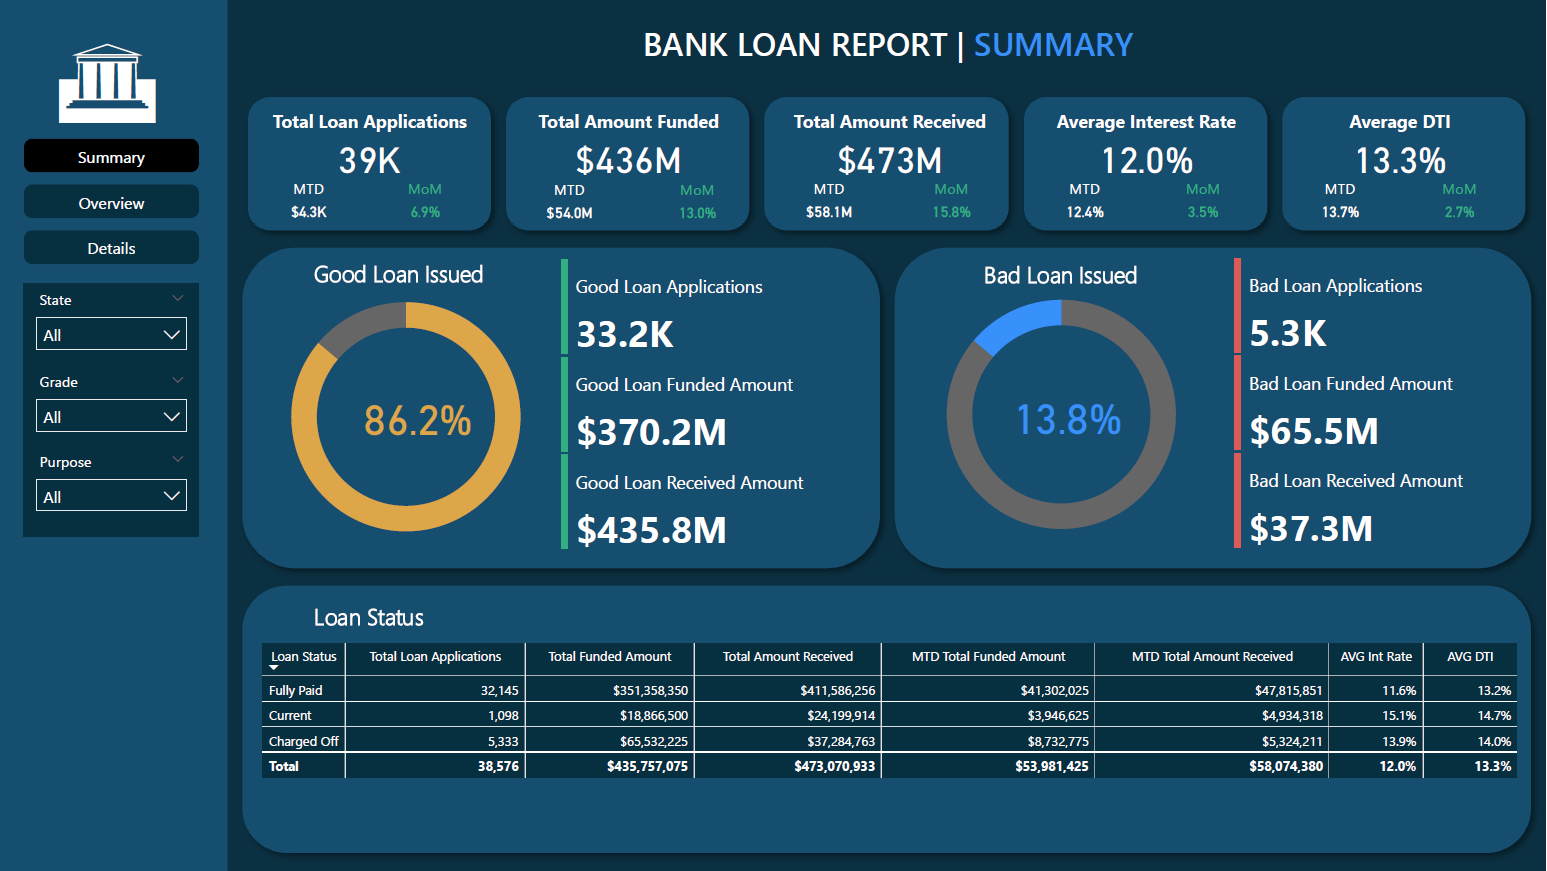

The dashboard page shown, as its layout file describes it:
{"tool":"powerbi","page":{"name":"Summary","canvas":[1280,720],"ordinal":0},"visuals":[{"type":"textbox","box":[190.4,11.5,1089.3,50.5],"z":0},{"type":"card","title":"Total Loan Applications","fields":{"Values":["bankloan data.Total Loan Applications"]},"box":[200.5,89.5,209.2,62],"z":1000},{"type":"card","title":"MTD","fields":{"Values":["bankloan data.MTD Total Loan Applications"]},"box":[200.5,142.8,108.2,51.9],"z":2000},{"type":"card","title":"MoM","fields":{"Values":["bankloan data.MoM Total Loan Applications"]},"box":[292.9,142.8,116.9,51.9],"z":3000},{"type":"card","title":"Total Amount Funded","fields":{"Values":["bankloan data.Total Funded Amount"]},"box":[421.3,89.5,197.7,62],"z":4000},{"type":"card","title":"MTD","fields":{"Values":["bankloan data.MTD Total Funded Amount"]},"box":[421.3,144.3,99.6,50.5],"z":5000},{"type":"card","title":"MoM","fields":{"Values":["bankloan data.MoM Total Funded Amount"]},"box":[535.3,144.3,83.7,50.5],"z":6000},{"type":"card","title":"Total Amount Received","fields":{"Values":["bankloan data.Total Amount Received"]},"box":[640.6,89.5,191.9,62],"z":7000},{"type":"card","title":"MTD","fields":{"Values":["bankloan data.MTD Total Amount Received"]},"box":[640.6,142.8,90.9,51.9],"z":8000},{"type":"card","title":"MoM","fields":{"Values":["bankloan data.MoM Total Received"]},"box":[743,142.8,89.5,51.9],"z":9000},{"type":"card","title":"Average Interest Rate","fields":{"Values":["bankloan data.AVG Int Rate"]},"box":[851.2,89.5,196.2,62],"z":10000},{"type":"card","title":"MTD","fields":{"Values":["bankloan data.MTD avg int rate"]},"box":[851.2,142.8,93.8,51.9],"z":11000},{"type":"card","title":"MoM","fields":{"Values":["bankloan data.MoM avg int rate"]},"box":[945,142.8,102.4,51.9],"z":12000},{"type":"card","title":"Average DTI","fields":{"Values":["bankloan data.avg dti"]},"box":[1060.4,89.5,197.7,62],"z":13000},{"type":"card","title":"MTD","fields":{"Values":["bankloan data.MTD avg dti"]},"box":[1060.4,142.8,98.1,51.9],"z":14000},{"type":"card","title":"MoM","fields":{"Values":["bankloan data.MoM avg dti"]},"box":[1158.5,142.8,99.6,51.9],"z":15000},{"type":"donutChart","fields":{"Category":["bankloan data.Good vs Bad Loan"],"Y":["bankloan data.Total Loan Applications"]},"box":[200,221.2,271.2,246.2],"z":16000},{"type":"card","fields":{"Values":["bankloan data.Good Loan %"]},"box":[281.3,323.2,128.4,43.3],"z":17000},{"type":"cardVisual","fields":{"Data":["bankloan data.Good Loan Applications","bankloan data.Good Loan funded","bankloan data.Good Loan received"]},"box":[458.8,209.2,272.7,256.8],"z":18000},{"type":"donutChart","fields":{"Category":["bankloan data.Good vs Bad Loan"],"Y":["bankloan data.Total Loan Applications"]},"box":[743,219.3,271.2,246.7],"z":19000},{"type":"card","fields":{"Values":["bankloan data.Bad Loan %"]},"box":[822.4,318.9,122.6,49.1],"z":20000},{"type":"tableEx","fields":{"Values":["bankloan data.loan_status","bankloan data.Total Loan Applications","bankloan data.Total Funded Amount","bankloan data.Total Amount Received","bankloan data.MTD Total Funded Amount","bankloan data.MTD Total Amount Received","bankloan data.AVG Int Rate","bankloan data.avg dti"]},"box":[211,527,1057,157],"z":21000},{"type":"slicer","fields":{"Values":["bankloan data.address_state"]},"box":[18.8,234,145.7,76.5],"z":22000},{"type":"slicer","fields":{"Values":["bankloan data.grade"]},"box":[18.8,301.8,145.7,76.5],"z":23000},{"type":"slicer","fields":{"Values":["bankloan data.purpose"]},"box":[18.8,367.9,145.7,76.5],"z":24000},{"type":"cardVisual","fields":{"Data":["bankloan data.Bad Loan Applications","bankloan data.Bad Loan funded","bankloan data.Bad Loan received"]},"box":[1017.1,207.8,262.6,258.3],"z":25000},{"type":"textbox","box":[200.5,207.8,258.3,47.6],"z":26000},{"type":"textbox","box":[743,209.2,271.2,47.6],"z":27000},{"type":"textbox","box":[255.4,492,181.8,47.6],"z":28000},{"type":"textbox","title":"🏛","box":[47.6,0,89.5,101],"z":29000},{"type":"pageNavigator","box":[18.8,114,145.7,105.3],"z":30000}]}

Visuals, with their boxes on the page's 1280x720 design canvas (x1, y1, x2, y2). These are canvas units, not pixel positions in the 1547x871 screenshot, which may show the page scaled, cropped or inside an application window:
textbox: l=190, t=12, r=1280, b=62
"Total Loan Applications" card: l=200, t=90, r=410, b=152
"MTD" card: l=200, t=143, r=309, b=195
"MoM" card: l=293, t=143, r=410, b=195
"Total Amount Funded" card: l=421, t=90, r=619, b=152
"MTD" card: l=421, t=144, r=521, b=195
"MoM" card: l=535, t=144, r=619, b=195
"Total Amount Received" card: l=641, t=90, r=832, b=152
"MTD" card: l=641, t=143, r=732, b=195
"MoM" card: l=743, t=143, r=832, b=195
"Average Interest Rate" card: l=851, t=90, r=1047, b=152
"MTD" card: l=851, t=143, r=945, b=195
"MoM" card: l=945, t=143, r=1047, b=195
"Average DTI" card: l=1060, t=90, r=1258, b=152
"MTD" card: l=1060, t=143, r=1158, b=195
"MoM" card: l=1158, t=143, r=1258, b=195
donutChart - bankloan data.Good vs Bad Loan x bankloan data.Total Loan Applications: l=200, t=221, r=471, b=467
card - bankloan data.Good Loan %: l=281, t=323, r=410, b=366
cardVisual - bankloan data.Good Loan Applications x bankloan data.Good Loan funded: l=459, t=209, r=732, b=466
donutChart - bankloan data.Good vs Bad Loan x bankloan data.Total Loan Applications: l=743, t=219, r=1014, b=466
card - bankloan data.Bad Loan %: l=822, t=319, r=945, b=368
tableEx - bankloan data.loan_status x bankloan data.Total Loan Applications: l=211, t=527, r=1268, b=684
slicer - bankloan data.address_state: l=19, t=234, r=164, b=310
slicer - bankloan data.grade: l=19, t=302, r=164, b=378
slicer - bankloan data.purpose: l=19, t=368, r=164, b=444
cardVisual - bankloan data.Bad Loan Applications x bankloan data.Bad Loan funded: l=1017, t=208, r=1280, b=466
textbox: l=200, t=208, r=459, b=255
textbox: l=743, t=209, r=1014, b=257
textbox: l=255, t=492, r=437, b=540
"🏛" textbox: l=48, t=0, r=137, b=101
pageNavigator: l=19, t=114, r=164, b=219
